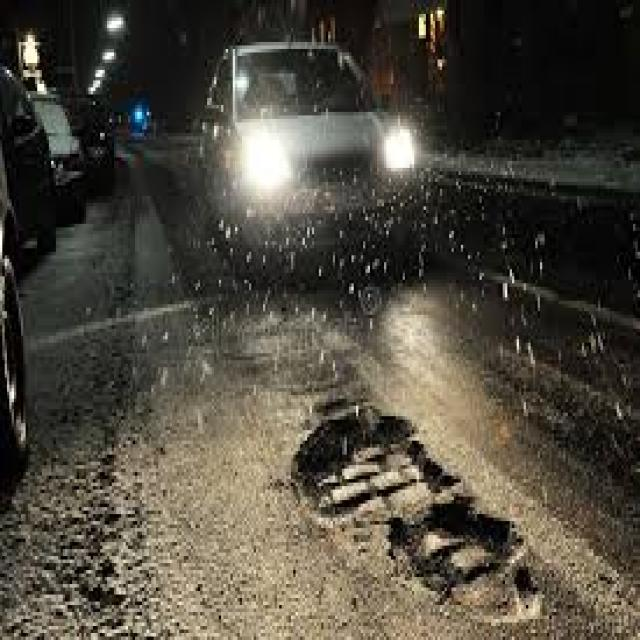Pothole: (286, 406, 519, 609)
